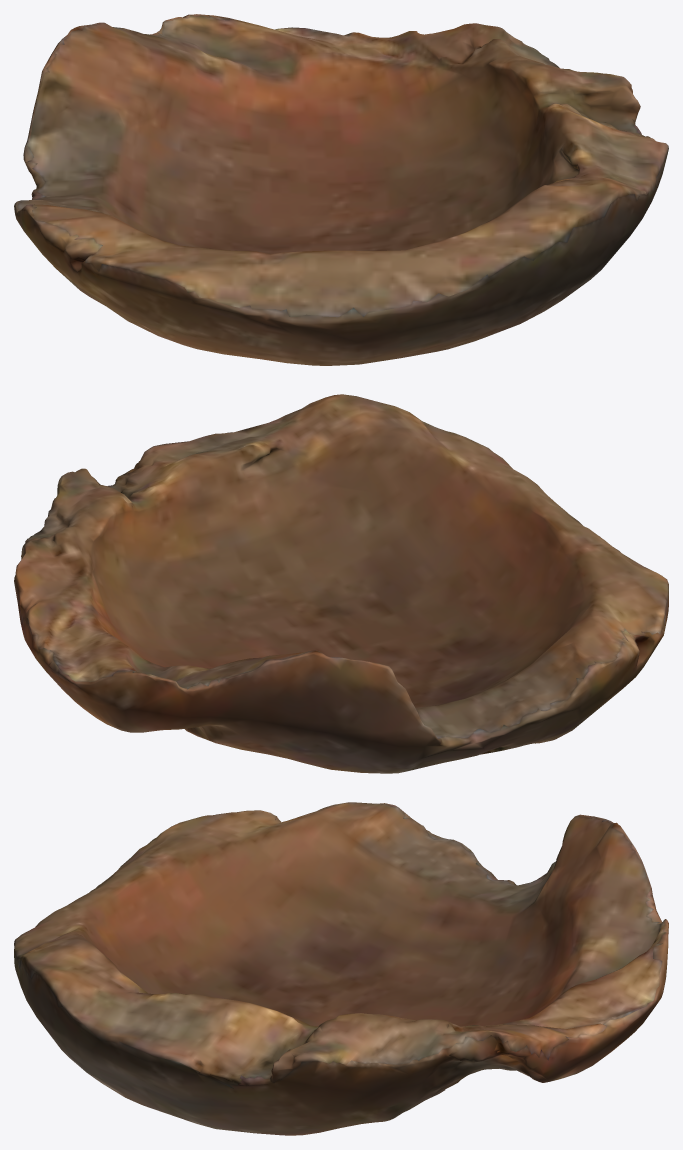
File: wooden_bowl_01.glb
3 views of the same model, one above another, from view 1: azimuth 30°, elevation 25°; view 2: azimuth 150°, elevation 25°; view 3: azimuth 270°, elevation 25° (orthographic). The views are drawn at different scales.
Visible parts, largest first — view 1: wooden_bowl_01; view 2: wooden_bowl_01; view 3: wooden_bowl_01.
Boxes of the visible parts, bbox=[...] form: wooden_bowl_01: bbox=[14, 14, 668, 365]; wooden_bowl_01: bbox=[14, 394, 668, 773]; wooden_bowl_01: bbox=[14, 802, 668, 1135].
Size of the model in its own units: 0.313 by 0.0937 by 0.3092.
1 material, 1 textured.
